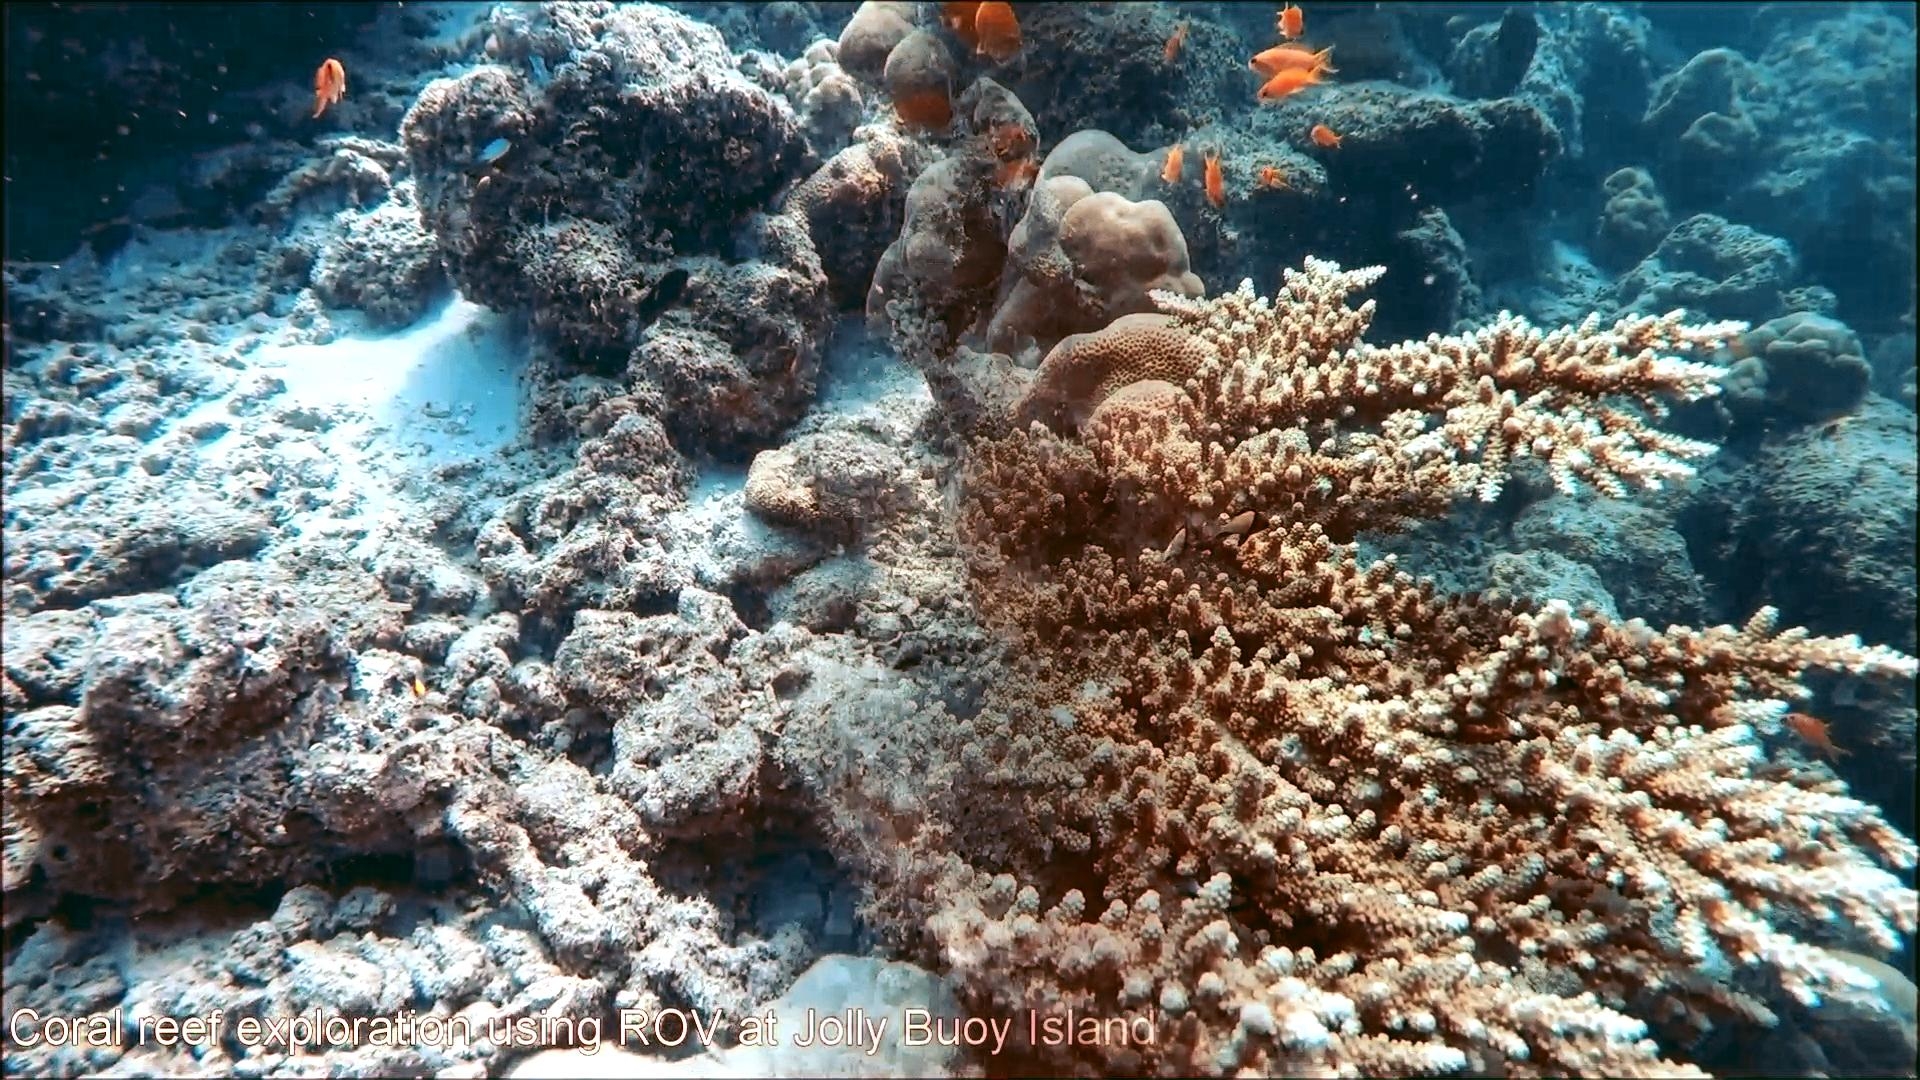Porites-Porites pukoensis: (496, 939, 960, 1080)
